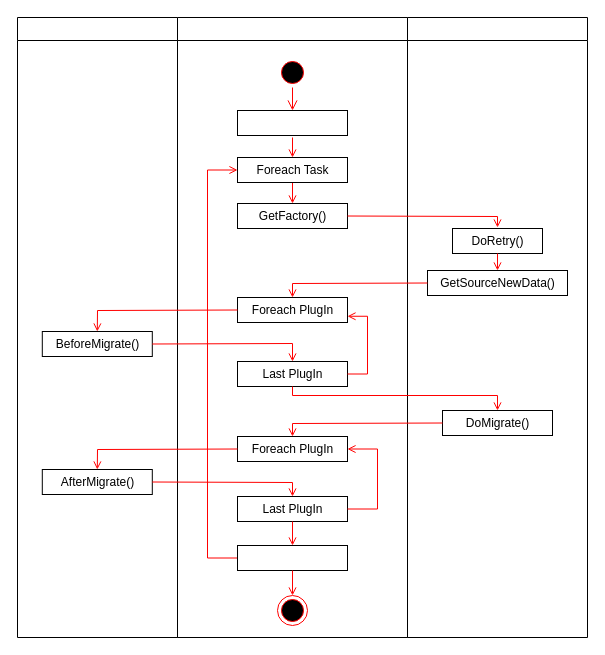
Some shapes in this 605 by 655 pixel diagram are drawn without their labels. The box of each missing label's shape, as (x1, y1, x2, y2) in pixels:
AbstractTask: (406, 16, 588, 638)
InitialSetting(): (236, 110, 348, 136)
Last Task: (236, 544, 348, 570)
MigrateData - DoTask: (176, 16, 408, 638)
MigrateDataModel: (16, 16, 178, 638)
